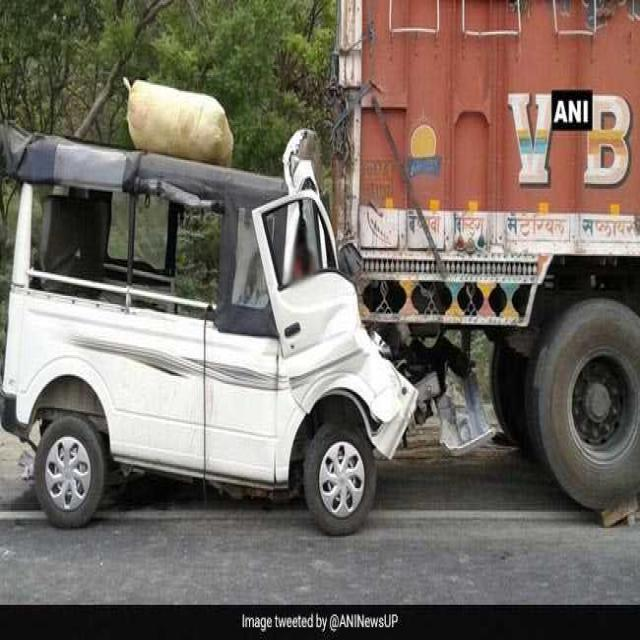accident: (0, 124, 418, 533)
truck: (332, 0, 640, 509)
